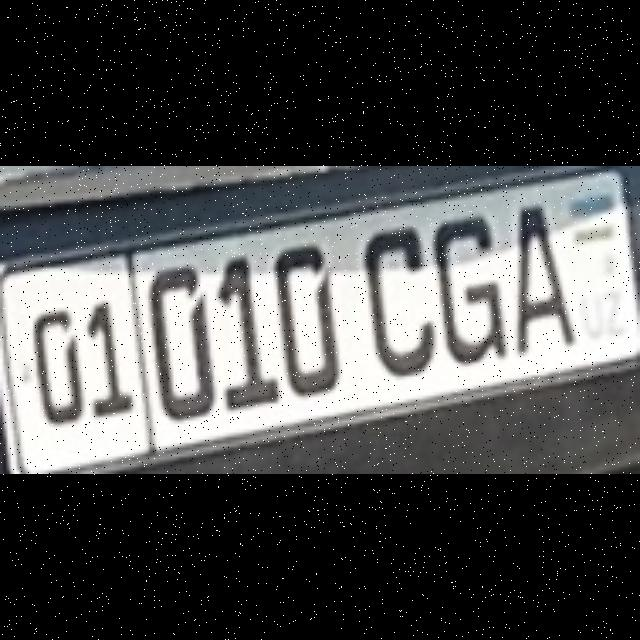0: (146, 261, 210, 417), (271, 237, 335, 393), (30, 304, 81, 420)
1: (213, 251, 274, 407), (82, 298, 128, 414)
A: (512, 203, 572, 349)
C: (362, 224, 430, 372)
G: (430, 214, 504, 362)
